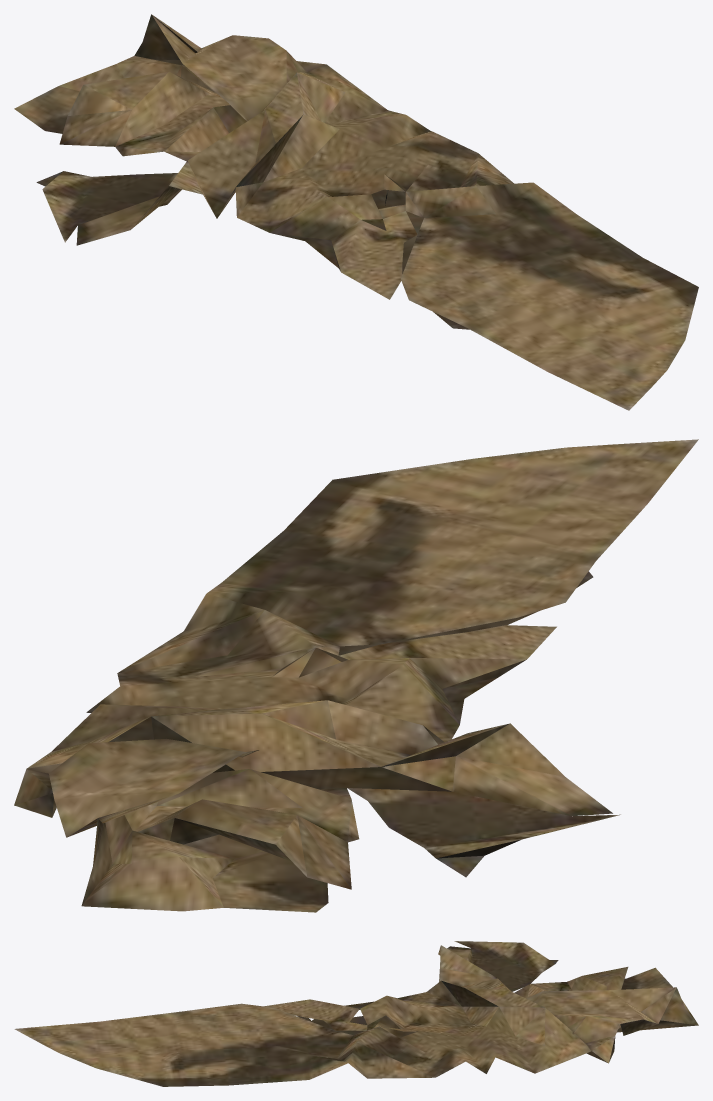
File: rag_burlap_sack_2_lod1_web.glb
The picture shows the model from 3 angles, top to bottom: view 1: azimuth 30°, elevation 25°; view 2: azimuth 150°, elevation 25°; view 3: azimuth 270°, elevation 25°; orthographic projection. The views are drawn at different scales.
Parts seen in each view (by area): view 1: rag_burlap_sack_2_Cloth; view 2: rag_burlap_sack_2_Cloth; view 3: rag_burlap_sack_2_Cloth.
Boxes of the visible parts, left/top/right/bottom form: rag_burlap_sack_2_Cloth: left=14, top=14, right=698, bottom=410; rag_burlap_sack_2_Cloth: left=14, top=439, right=698, bottom=912; rag_burlap_sack_2_Cloth: left=14, top=941, right=698, bottom=1086.
Bounding box in the file's own units: 0.5121 × 0.0671 × 1.01.
1 material, 1 textured.
